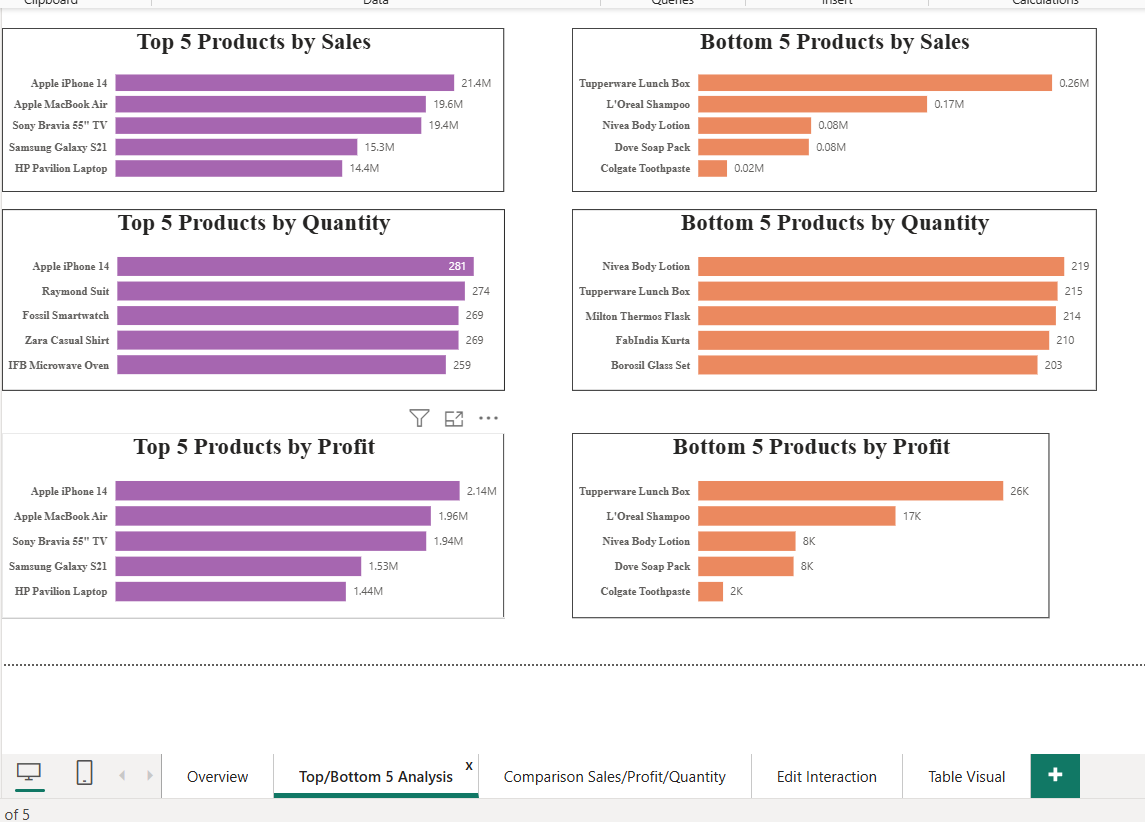

The dashboard page shown, as its layout file describes it:
{"tool":"powerbi","page":{"name":"Top/Bottom 5 Analysis","canvas":[1280,720],"ordinal":1},"visuals":[{"type":"barChart","title":"Top 5 Products by Sales","fields":{"Category":["Dim Product.Product Name"],"Y":["Sum(Fact Table.Net Sales )"]},"box":[0,22,551.5,179.8],"z":0},{"type":"barChart","title":"Bottom 5 Products by Sales","fields":{"Category":["Dim Product.Product Name"],"Y":["Sum(Fact Table.Net Sales )"]},"box":[626.1,22,576,179.8],"z":1000},{"type":"barChart","title":"Top 5 Products by Quantity","fields":{"Category":["Dim Product.Product Name"],"Y":["Sum(Fact Table.Units Sold)"]},"box":[0,220.9,551.6,199],"z":2000},{"type":"barChart","title":"Bottom 5 Products by Quantity","fields":{"Category":["Dim Product.Product Name"],"Y":["Sum(Fact Table.Units Sold)"]},"box":[626.1,221.3,576,199.3],"z":3000},{"type":"barChart","title":"Top 5 Products by Profit","fields":{"Category":["Dim Product.Product Name"],"Y":["Sum(Fact Table.Profit)"]},"box":[0,467.1,551.5,203],"z":4000},{"type":"barChart","title":"Bottom 5 Products by Profit","fields":{"Category":["Dim Product.Product Name"],"Y":["Sum(Fact Table.Profit)"]},"box":[625.7,466.6,524.2,203.1],"z":5000}]}

Visuals, with their boxes on the page's 1280x720 design canvas (x1, y1, x2, y2). These are canvas units, not pixel positions in the 1145x822 screenshot, which may show the page scaled, cropped or inside an application window:
"Top 5 Products by Sales" barChart: <bbox>0, 22, 552, 202</bbox>
"Bottom 5 Products by Sales" barChart: <bbox>626, 22, 1202, 202</bbox>
"Top 5 Products by Quantity" barChart: <bbox>0, 221, 552, 420</bbox>
"Bottom 5 Products by Quantity" barChart: <bbox>626, 221, 1202, 421</bbox>
"Top 5 Products by Profit" barChart: <bbox>0, 467, 552, 670</bbox>
"Bottom 5 Products by Profit" barChart: <bbox>626, 467, 1150, 670</bbox>
